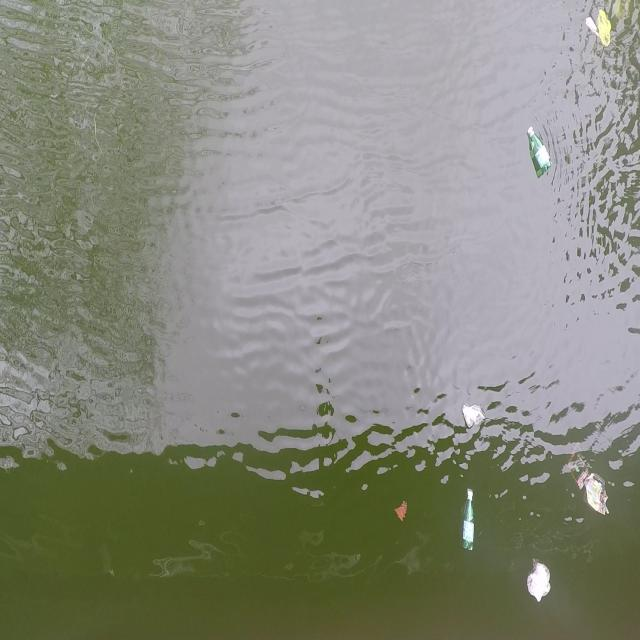Bouteille plastique: (525, 118, 554, 182), (461, 480, 476, 561)
Sac plastique: (526, 558, 556, 607), (459, 402, 490, 438)
